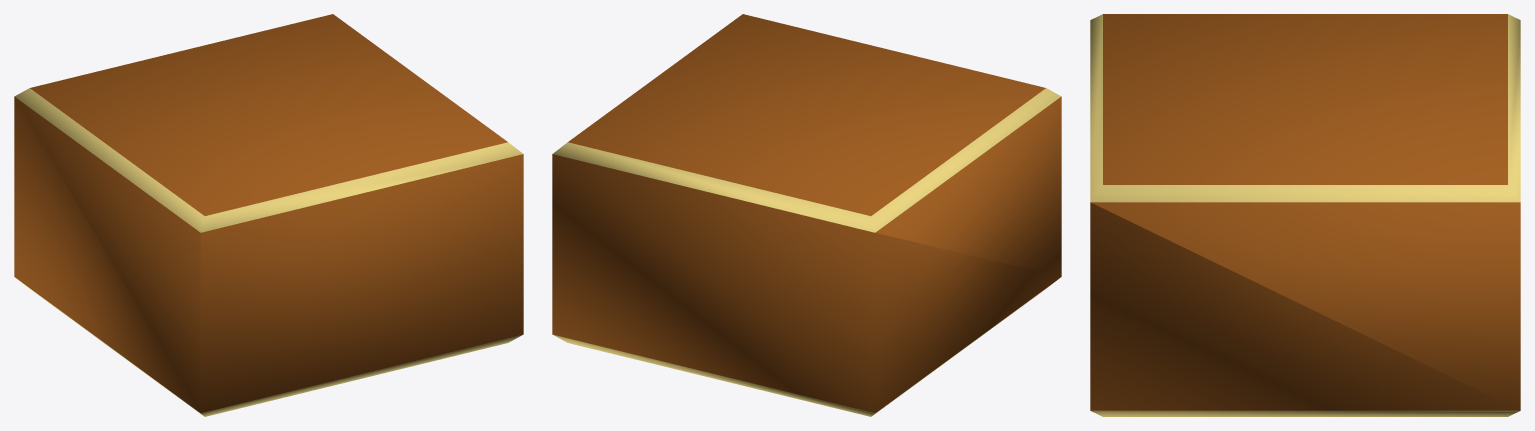
Rendered from 3D_Block_Indestructible.fbx.
The picture shows the model from 3 angles, left to right: view 1: azimuth 30°, elevation 25°; view 2: azimuth 150°, elevation 25°; view 3: azimuth 270°, elevation 25°; orthographic projection. The views are drawn at different scales.
Parts seen in each view (by area): view 1: Bloc Caramel; view 2: Bloc Caramel; view 3: Bloc Caramel.
Boxes of the visible parts, x1,y1,x2,y2 form: Bloc Caramel: [14, 14, 523, 416]; Bloc Caramel: [552, 14, 1061, 416]; Bloc Caramel: [1090, 14, 1520, 416].
Size of the model in its own units: 2 by 1.19 by 2.
